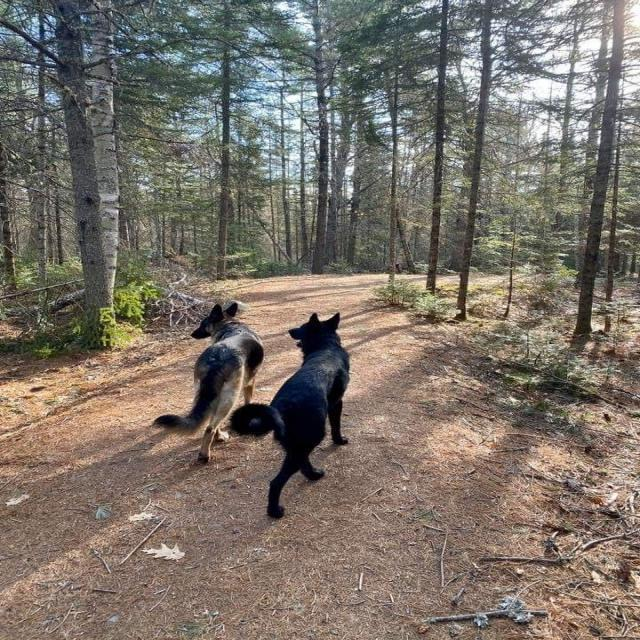Dogs: (260, 310, 362, 524), (149, 302, 267, 466)
